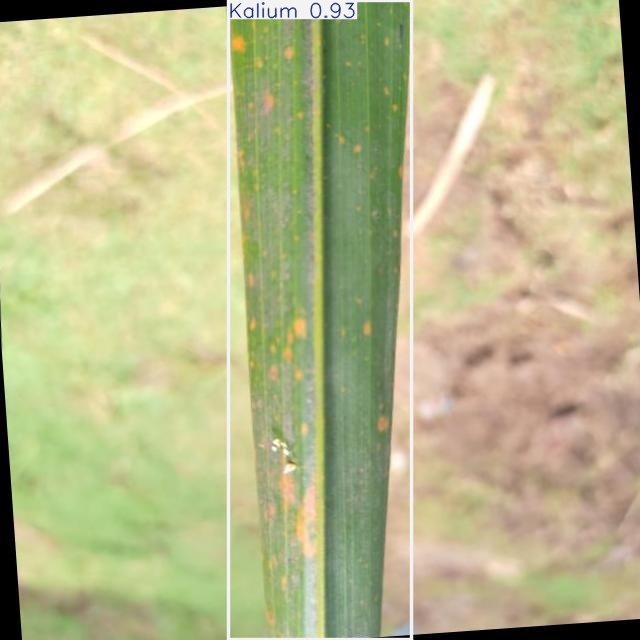Kalium: (228, 0, 412, 640)
